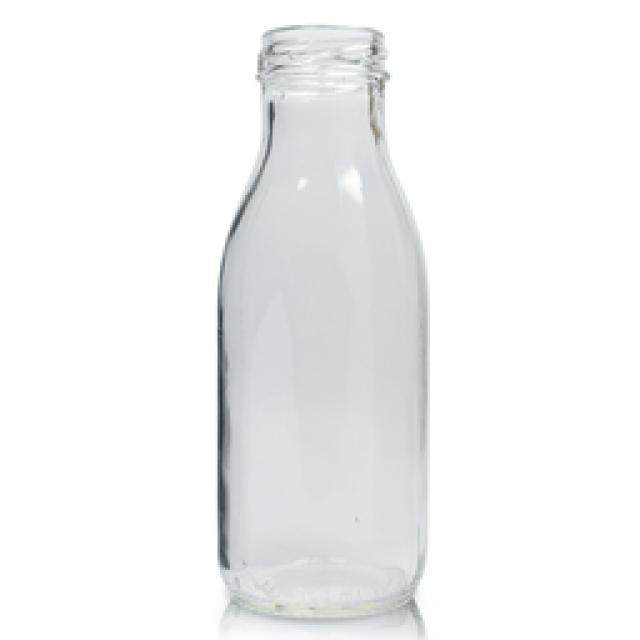glass_beverage_bottles: (217, 22, 428, 613)
